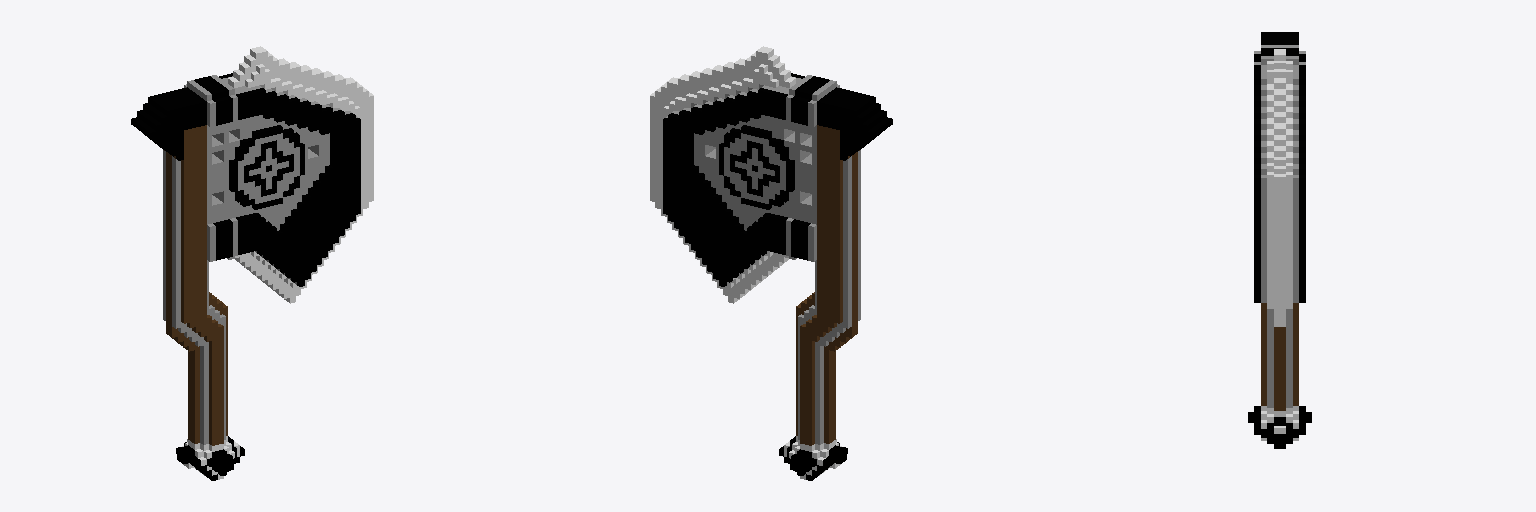
3 views of the same model, side by side, from view 1: azimuth 30°, elevation 25°; view 2: azimuth 150°, elevation 25°; view 3: azimuth 270°, elevation 25° (orthographic).
Size of the model in its own units: 41 by 70 by 10.
1 materials, 1 textured.